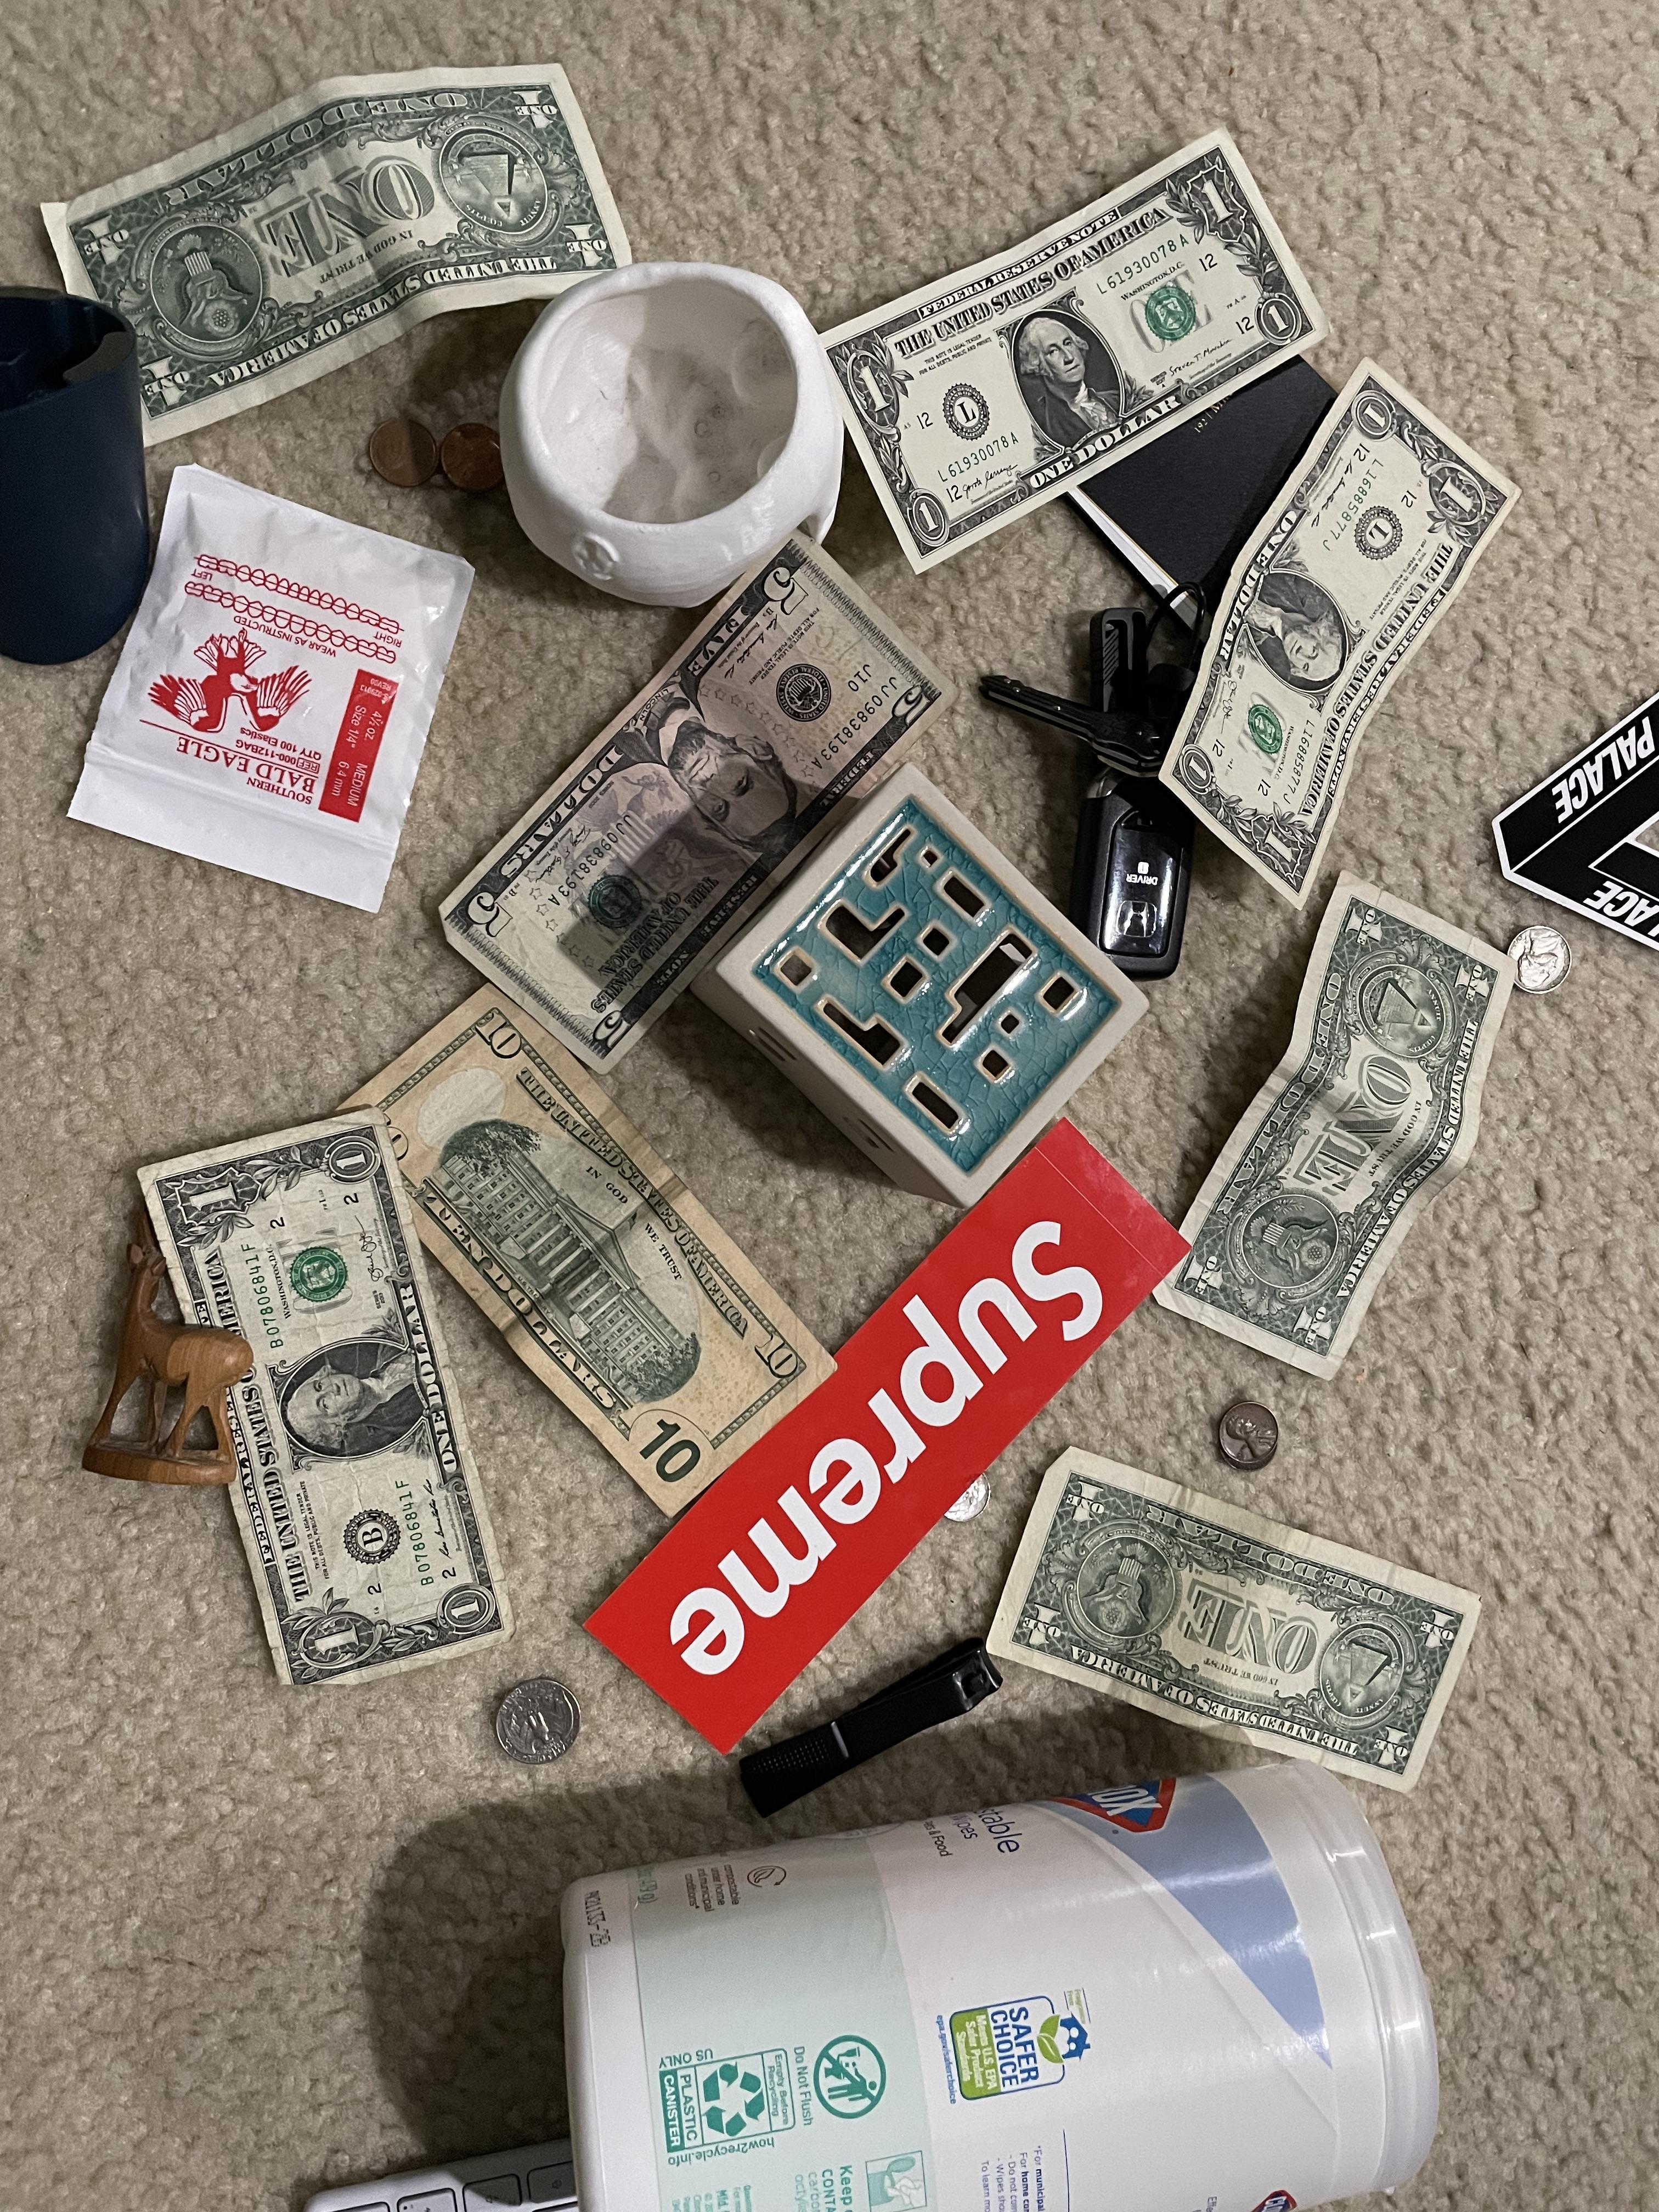FiveBill: (427, 529, 943, 1075)
Nickel: (1506, 918, 1577, 1000)
OneBill: (45, 49, 643, 462), (817, 132, 1328, 583), (124, 1106, 511, 1689), (1159, 352, 1534, 913), (1134, 864, 1527, 1367), (978, 1447, 1483, 1789)
Penny: (356, 401, 443, 495), (1216, 1393, 1291, 1475), (444, 416, 507, 495)
Quarter: (488, 1676, 587, 1775)
TenBill: (345, 996, 845, 1519)
